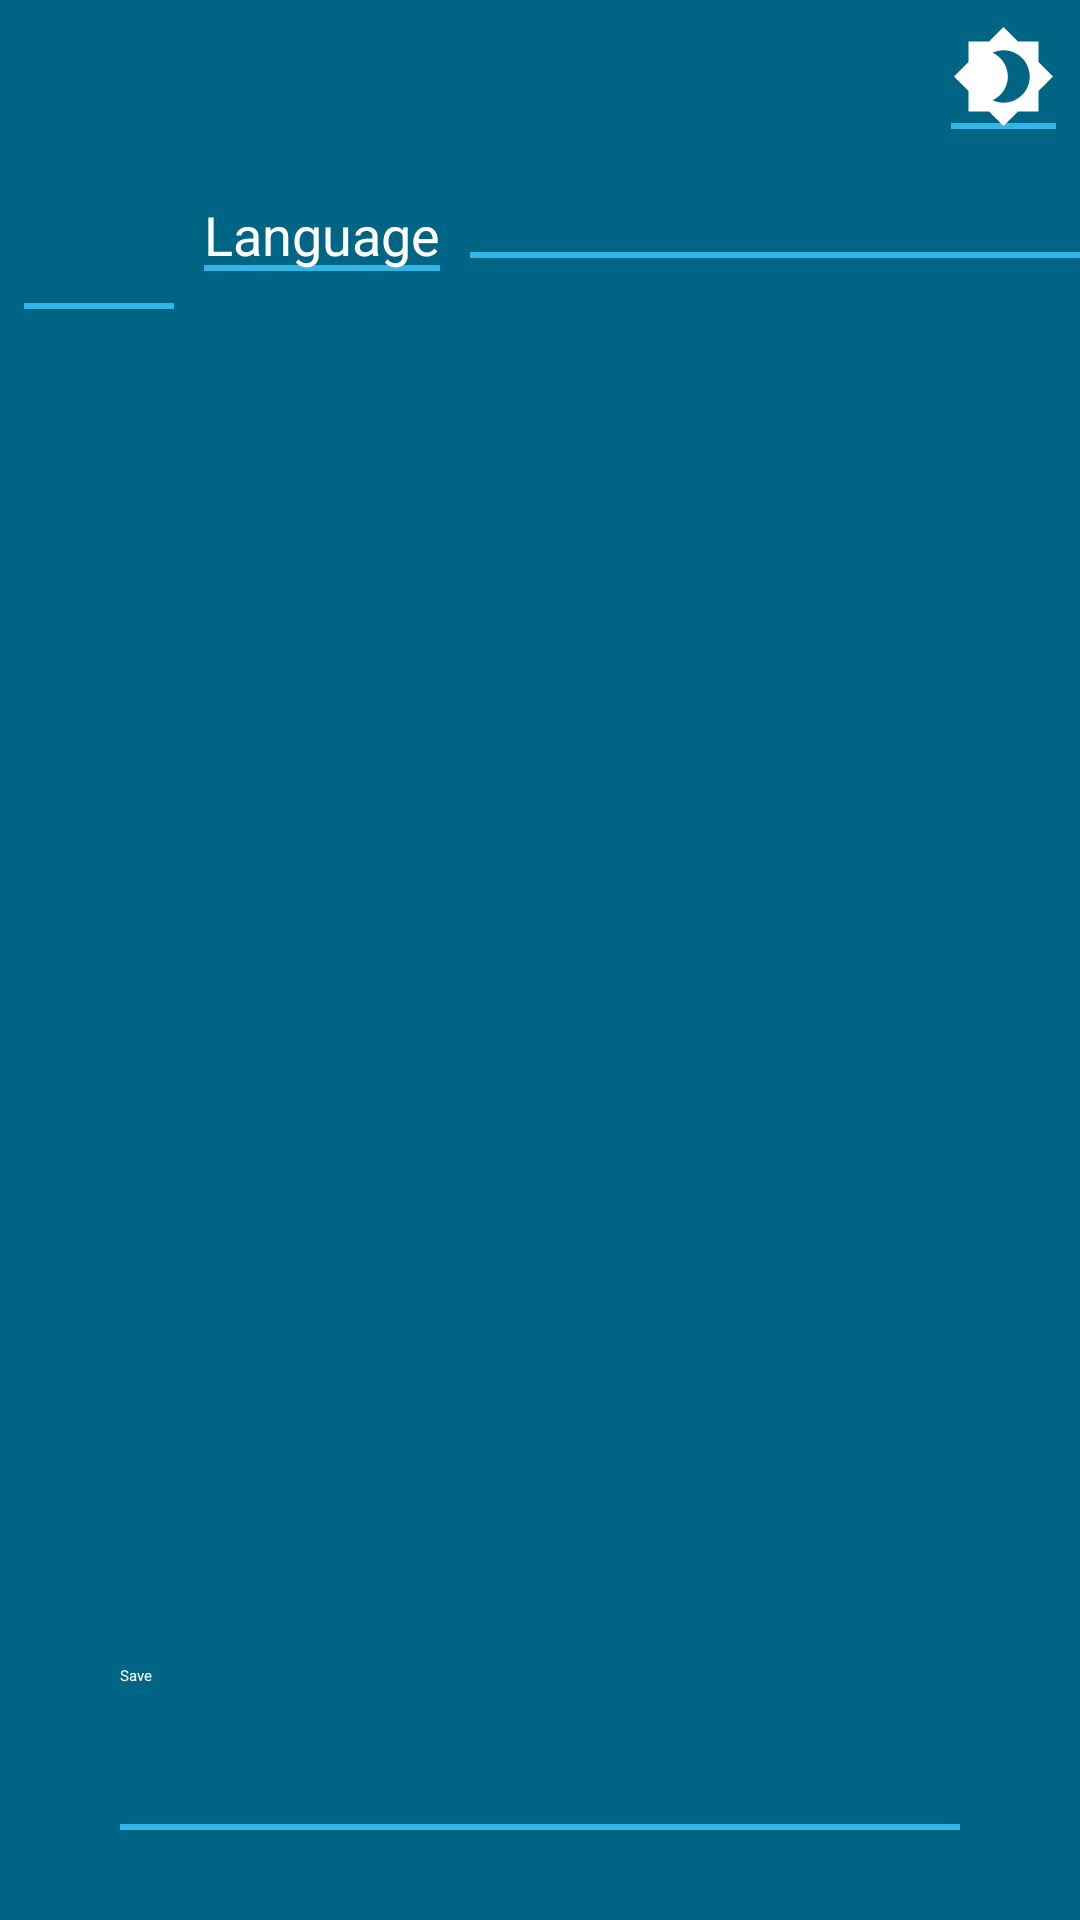

Screen size 1080px×1920px. Icon name, then its center in pixels as point (x, y):
brightness: point (1003, 78)
